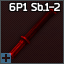AKM gas tube 6P1 Sb.1-2: (0, 0, 64, 64)
